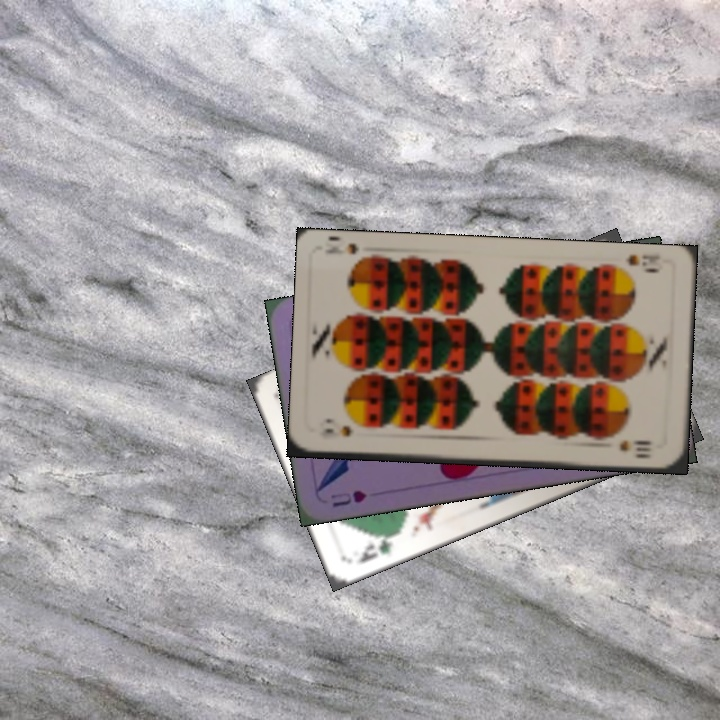GK: (354, 528, 400, 566)
HU: (327, 486, 370, 510)
S10: (623, 250, 662, 275), (315, 423, 356, 443)
